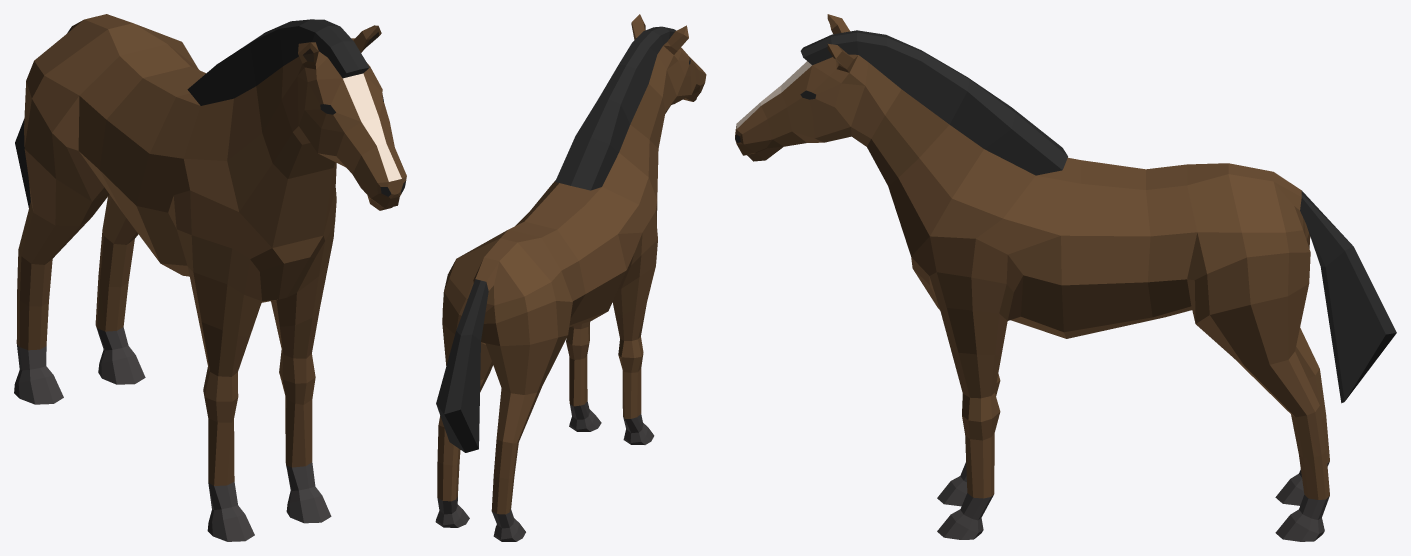
Rendered from horse.glb.
3 views of the same model, side by side, from view 1: azimuth 30°, elevation 25°; view 2: azimuth 150°, elevation 25°; view 3: azimuth 270°, elevation 25° (orthographic). The views are drawn at different scales.
Parts seen in each view (by area): view 1: horse; view 2: horse; view 3: horse.
Boxes of the visible parts, left/top/right/bottom form: horse: left=14, top=14, right=406, bottom=541; horse: left=435, top=14, right=706, bottom=541; horse: left=735, top=14, right=1396, bottom=541.
Bounding box in the file's own units: 0.6717 × 2.09 × 2.57.
1 material, 1 textured.
